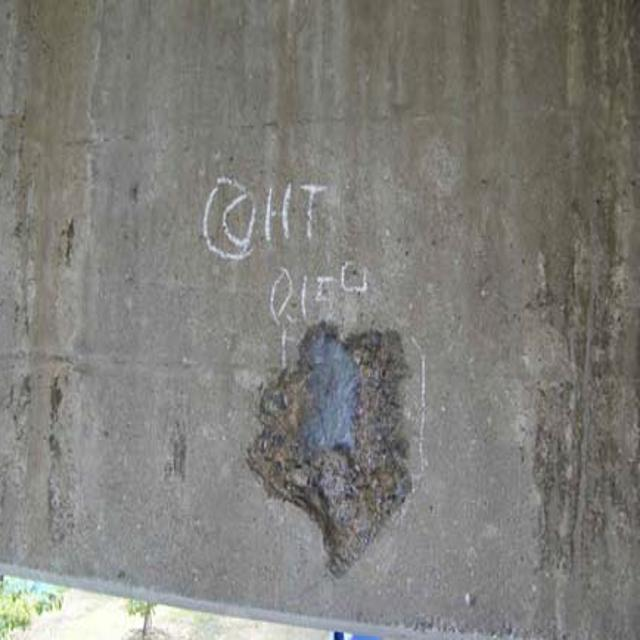spalling: (229, 300, 427, 571)
